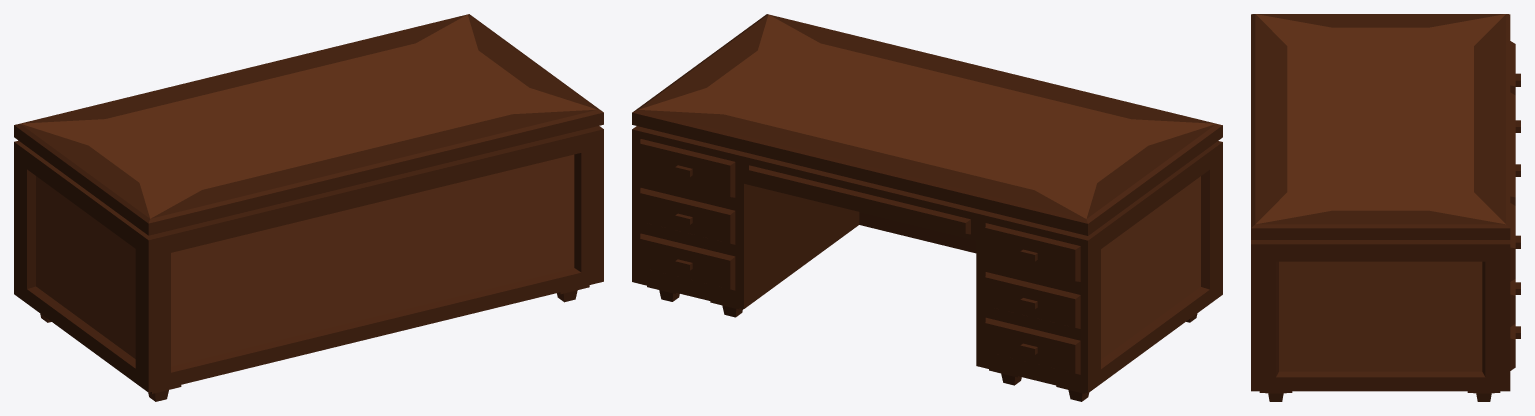
The model's file is Desk-Wooden-Classical_01.fbx.
3 views of the same model, side by side, from view 1: azimuth 30°, elevation 25°; view 2: azimuth 150°, elevation 25°; view 3: azimuth 270°, elevation 25° (orthographic). The views are drawn at different scales.
Parts seen in each view (by area): view 1: Office_desk_01; view 2: Office_desk_01; view 3: Office_desk_01.
Boxes of the visible parts, x1,y1,x2,y2 form: Office_desk_01: (14, 14, 603, 401); Office_desk_01: (632, 14, 1222, 401); Office_desk_01: (1251, 14, 1520, 401).
Size of the model in its own units: 2 by 0.8045 by 1.07.
